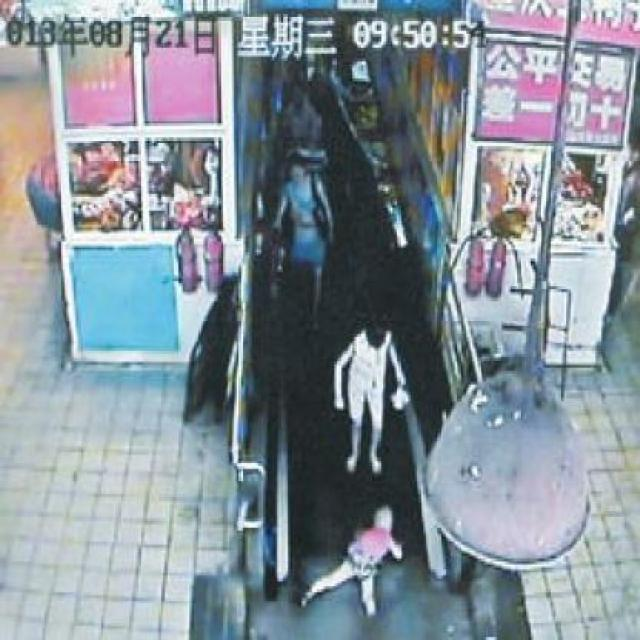fall: (283, 492, 406, 628)
